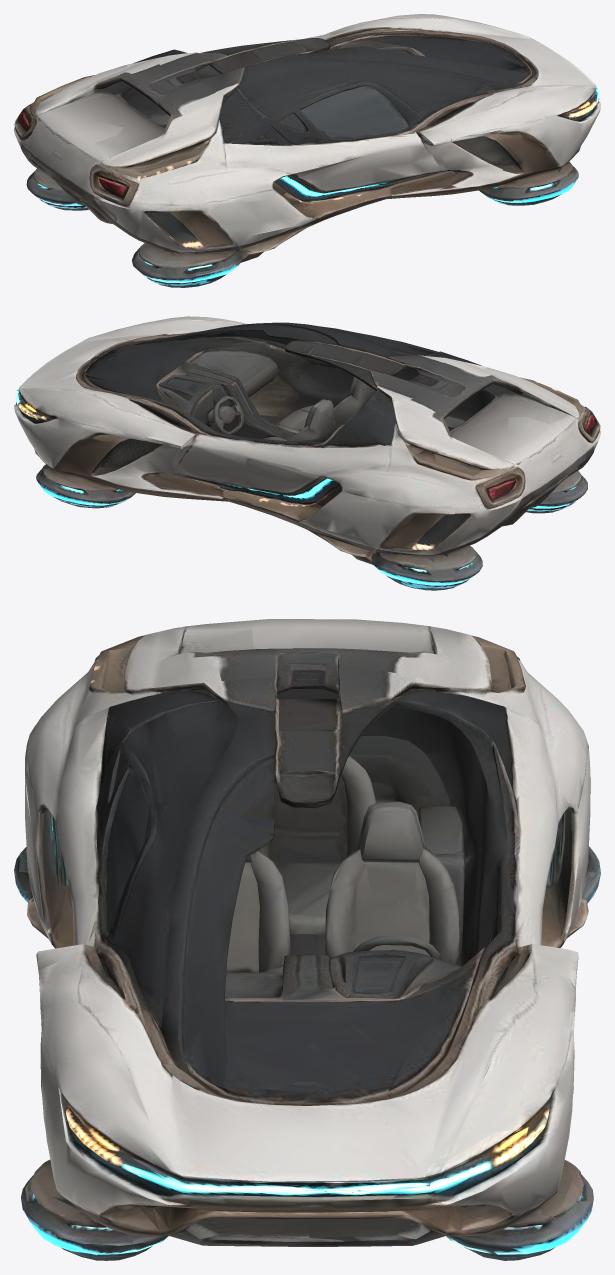
The model's file is hovercar_a.glb.
The picture shows the model from 3 angles, top to bottom: view 1: azimuth 30°, elevation 25°; view 2: azimuth 150°, elevation 25°; view 3: azimuth 270°, elevation 25°; orthographic projection. The views are drawn at different scales.
Visible parts, largest first — view 1: hovercar_a; view 2: hovercar_a; view 3: hovercar_a.
Part boxes in pixels (x1=…): hovercar_a: x1=14, y1=14, x2=600, y2=287; hovercar_a: x1=14, y1=316, x2=600, y2=590; hovercar_a: x1=14, y1=619, x2=600, y2=1260.
Size of the model in its own units: 5 by 1.45 by 2.55.
1 material, 1 textured.
